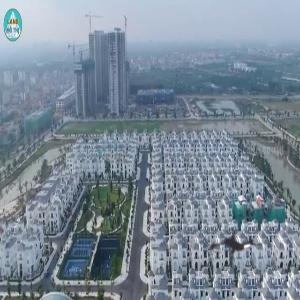drone: (190, 202, 285, 297)
